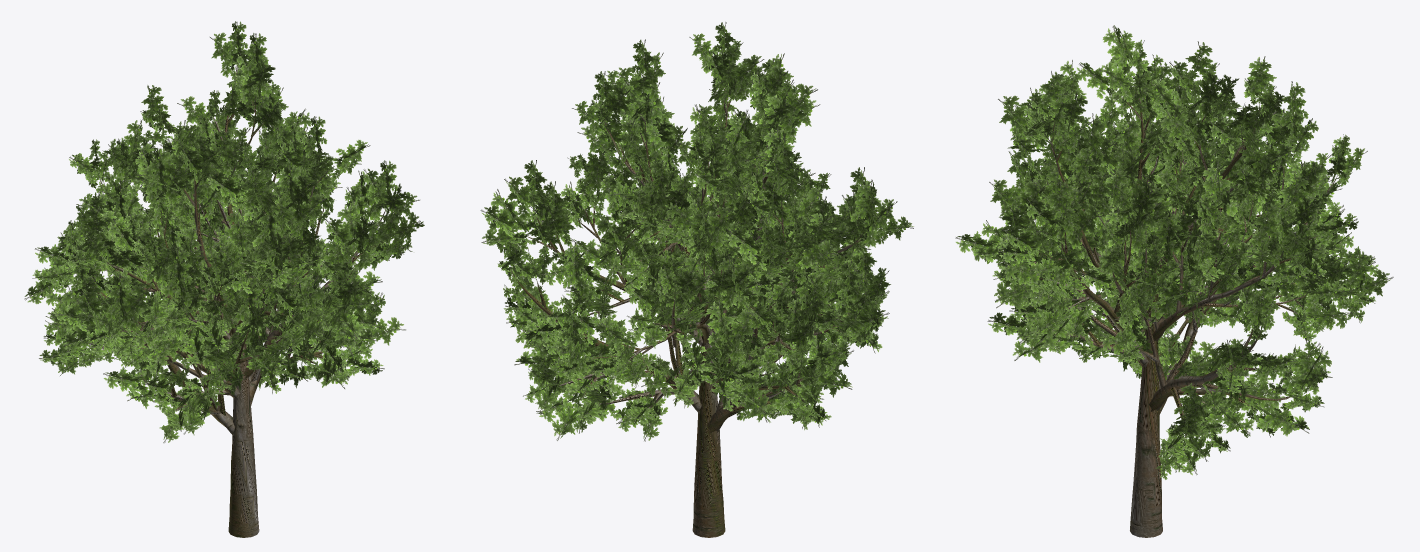
Rendered from park1.glb.
3 views of the same model, side by side, from view 1: azimuth 30°, elevation 25°; view 2: azimuth 150°, elevation 25°; view 3: azimuth 270°, elevation 25° (orthographic). The views are drawn at different scales.
Visible parts, largest first — view 1: leaves, bark; view 2: leaves, bark; view 3: leaves, bark.
Boxes of the visible parts, x1,y1,x2,y2 form: leaves: (24,21,424,442); bark: (70,62,385,537); leaves: (480,22,913,441); bark: (510,88,862,537); leaves: (955,25,1393,479); bark: (1030,81,1337,537).
Size of the model in its own units: 9.81 by 12 by 9.73.
2 materials, 2 textured.
